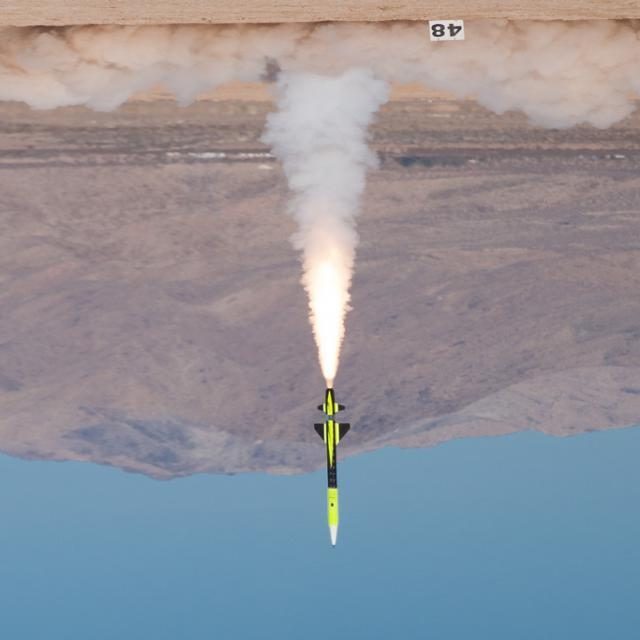Missile: (314, 385, 352, 550)
